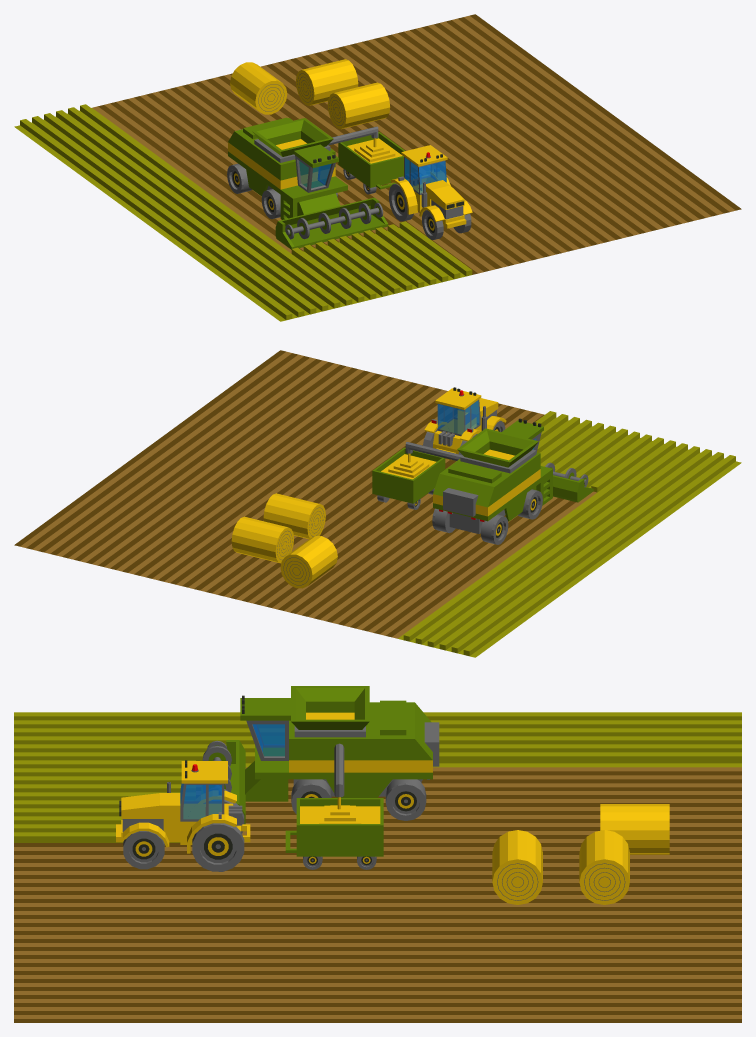
File: field.glb
3 renders of one model, top to bottom at view 1: azimuth 30°, elevation 25°; view 2: azimuth 150°, elevation 25°; view 3: azimuth 270°, elevation 25°, orthographic. The views are drawn at different scales.
Parts seen in each view (by area): view 1: Plane001, Cylinder006_01 - Default_0, Cylinder006_07 - Default_0, Plane005, Tractor01_03 - Default_0, Cylinder008_03 - Default_0, Cylinder010_03 - Default_0, Cylinder009_03 - Default_0, Tractor01_07 - Default_0, Cylinder006_03 - Default_0, Tractor01_08 - Default_0, Cylinder006_08 - Default_0; view 2: Plane001, Cylinder006_01 - Default_0, Cylinder006_07 - Default_0, Plane005, Tractor01_03 - Default_0, Cylinder009_03 - Default_0, Cylinder010_03 - Default_0, Cylinder008_03 - Default_0, Tractor01_07 - Default_0, Tractor01_08 - Default_0, Cylinder006_03 - Default_0; view 3: Plane001, Cylinder006_01 - Default_0, Plane005, Tractor01_03 - Default_0, Cylinder006_07 - Default_0, Tractor01_07 - Default_0, Cylinder008_03 - Default_0, Cylinder009_03 - Default_0, Cylinder010_03 - Default_0, Cylinder006_03 - Default_0, Tractor01_08 - Default_0, Cylinder006_08 - Default_0 (+2 smaller).
Boxes of the visible parts, x1,y1,x2,y2 form: Plane001: (14, 14, 741, 321); Cylinder006_01 - Default_0: (228, 117, 388, 249); Cylinder006_07 - Default_0: (227, 129, 383, 239); Plane005: (338, 132, 408, 194); Tractor01_03 - Default_0: (390, 145, 472, 230); Cylinder008_03 - Default_0: (327, 82, 390, 129); Cylinder010_03 - Default_0: (230, 62, 287, 114); Cylinder009_03 - Default_0: (296, 59, 358, 105); Tractor01_07 - Default_0: (389, 156, 471, 239); Cylinder006_03 - Default_0: (228, 139, 335, 209); Tractor01_08 - Default_0: (405, 157, 446, 193); Cylinder006_08 - Default_0: (299, 161, 331, 188); Plane001: (14, 350, 741, 657); Cylinder006_01 - Default_0: (433, 420, 593, 521); Cylinder006_07 - Default_0: (432, 432, 588, 544); Plane005: (372, 447, 445, 509); Tractor01_03 - Default_0: (424, 388, 506, 460); Cylinder009_03 - Default_0: (231, 516, 293, 563); Cylinder010_03 - Default_0: (280, 536, 337, 588); Cylinder008_03 - Default_0: (263, 493, 325, 538); Tractor01_07 - Default_0: (423, 394, 505, 455); Tractor01_08 - Default_0: (437, 400, 479, 434); Cylinder006_03 - Default_0: (433, 449, 540, 535); Plane001: (14, 712, 741, 1022); Cylinder006_01 - Default_0: (202, 686, 432, 824); Plane005: (285, 798, 383, 869); Tractor01_03 - Default_0: (116, 761, 250, 856); Cylinder006_07 - Default_0: (202, 720, 439, 820); Tractor01_07 - Default_0: (122, 769, 244, 871); Cylinder008_03 - Default_0: (492, 830, 542, 904); Cylinder009_03 - Default_0: (579, 830, 629, 904); Cylinder010_03 - Default_0: (600, 804, 669, 854); Cylinder006_03 - Default_0: (289, 712, 432, 808); Tractor01_08 - Default_0: (180, 783, 221, 819); Cylinder006_08 - Default_0: (252, 724, 284, 756).
Bounding box in the file's own units: 6.29 × 0.9321 × 6.29.
